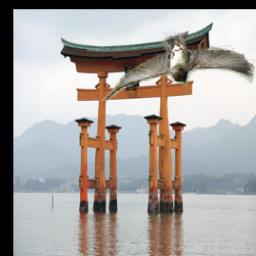Swallow: (103, 32, 256, 102)
